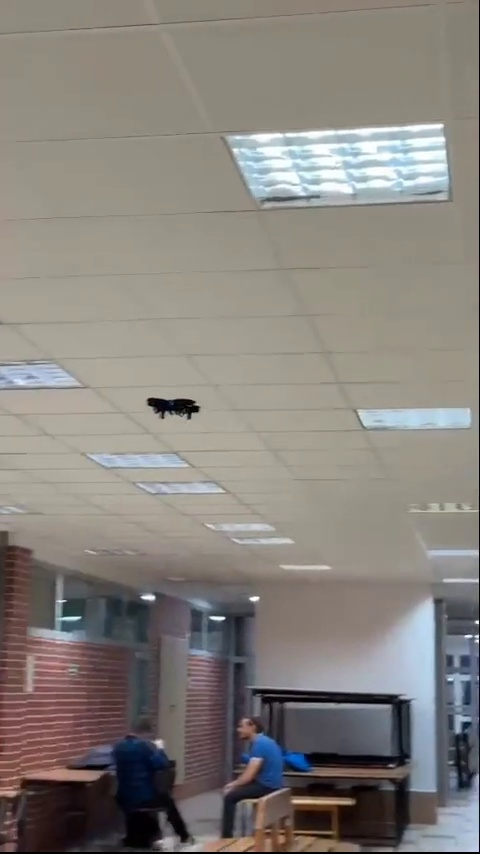drone: (144, 395, 199, 420)
no vest: (112, 710, 194, 842), (217, 716, 287, 813)
